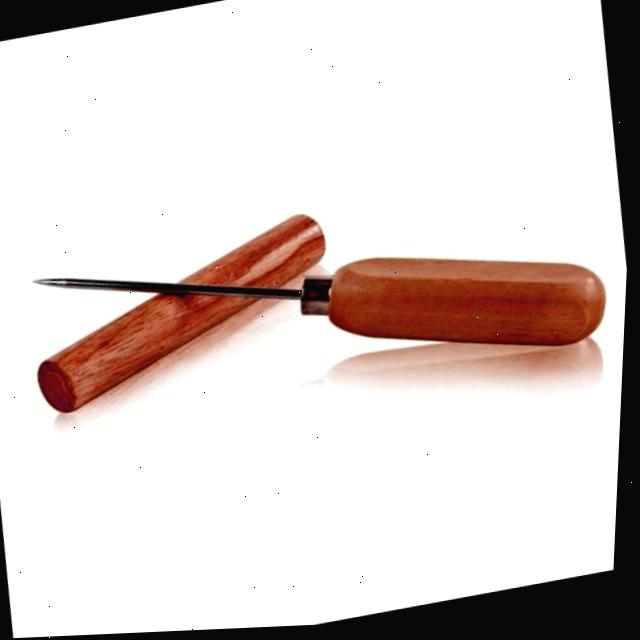ice pick: (27, 180, 621, 445)
